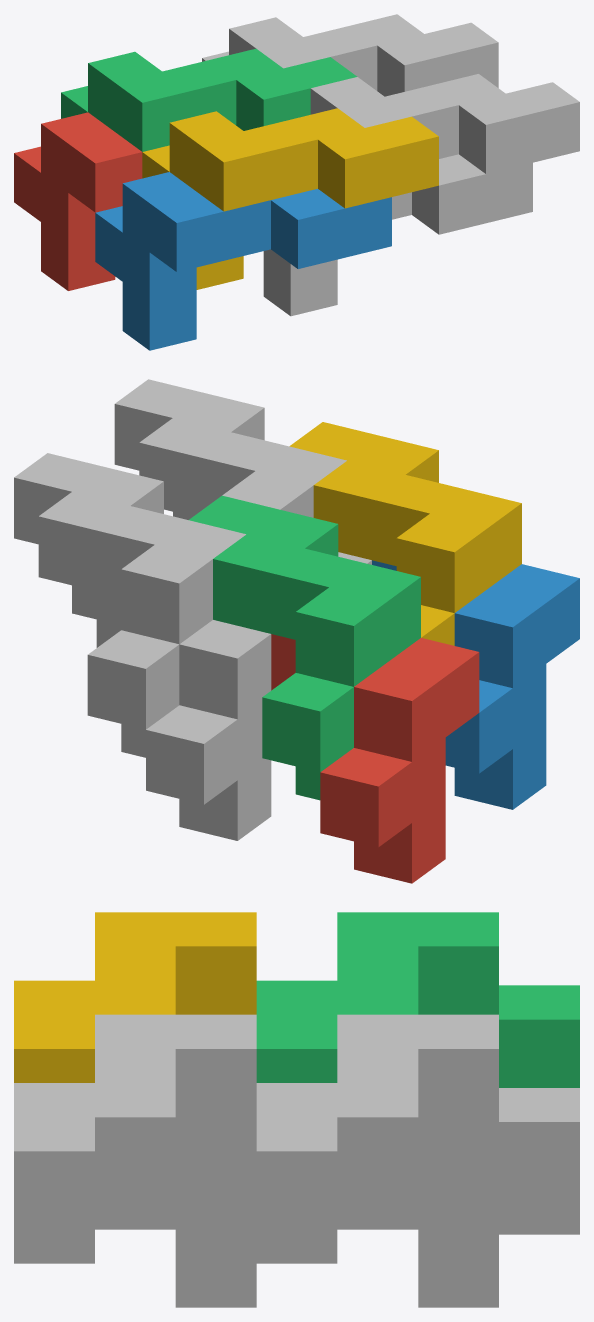
Rendered from tiling.obj.
3 renders of one model, top to bottom at view 1: azimuth 30°, elevation 25°; view 2: azimuth 150°, elevation 25°; view 3: azimuth 270°, elevation 25°, orthographic. The views are drawn at different scales.
Visible parts, largest first — view 1: copy_1_domain_2, copy_1_domain_4, copy_1_domain_3, copy_1_domain_8, copy_1_domain_1, copy_1_domain_7, copy_1_domain_6; view 2: copy_1_domain_7, copy_1_domain_3, copy_1_domain_1, copy_1_domain_4, copy_1_domain_5, copy_1_domain_2, copy_1_domain_8; view 3: copy_1_domain_7, copy_1_domain_8, copy_1_domain_3, copy_1_domain_4, copy_1_domain_5, copy_1_domain_6.
Part boxes in pixels (<box>): copy_1_domain_2: <box>95,172,391,350</box>; copy_1_domain_4: <box>142,108,438,289</box>; copy_1_domain_3: <box>61,48,357,151</box>; copy_1_domain_8: <box>310,74,579,173</box>; copy_1_domain_1: <box>14,112,142,290</box>; copy_1_domain_7: <box>202,14,498,96</box>; copy_1_domain_6: <box>263,154,532,316</box>; copy_1_domain_7: <box>14,453,245,757</box>; copy_1_domain_3: <box>188,495,420,800</box>; copy_1_domain_1: <box>271,634,479,883</box>; copy_1_domain_4: <box>289,422,521,645</box>; copy_1_domain_5: <box>72,585,271,840</box>; copy_1_domain_2: <box>372,560,579,809</box>; copy_1_domain_8: <box>114,379,346,517</box>; copy_1_domain_7: <box>256,1014,579,1268</box>; copy_1_domain_8: <box>14,1014,256,1268</box>; copy_1_domain_3: <box>256,912,579,1087</box>; copy_1_domain_4: <box>14,912,256,1082</box>; copy_1_domain_5: <box>256,1190,579,1307</box>; copy_1_domain_6: <box>14,1190,256,1307</box>.
Bounding box in the file's own units: 8 × 4 × 7.
